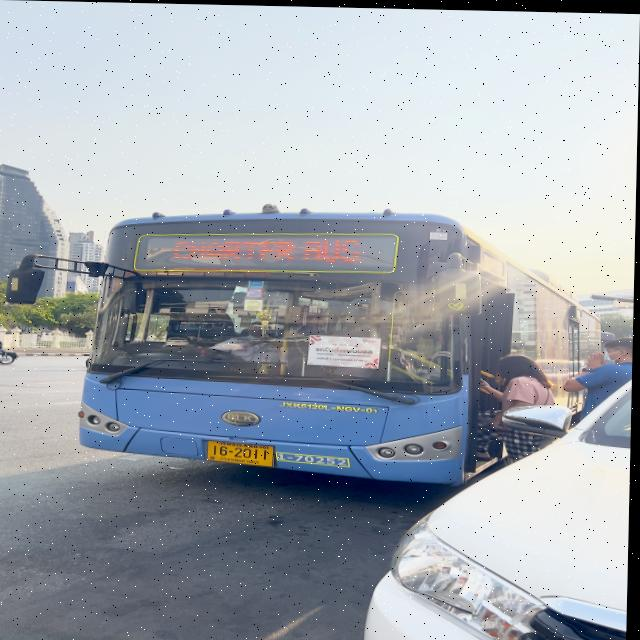BMTA-bus: (78, 205, 581, 488)
